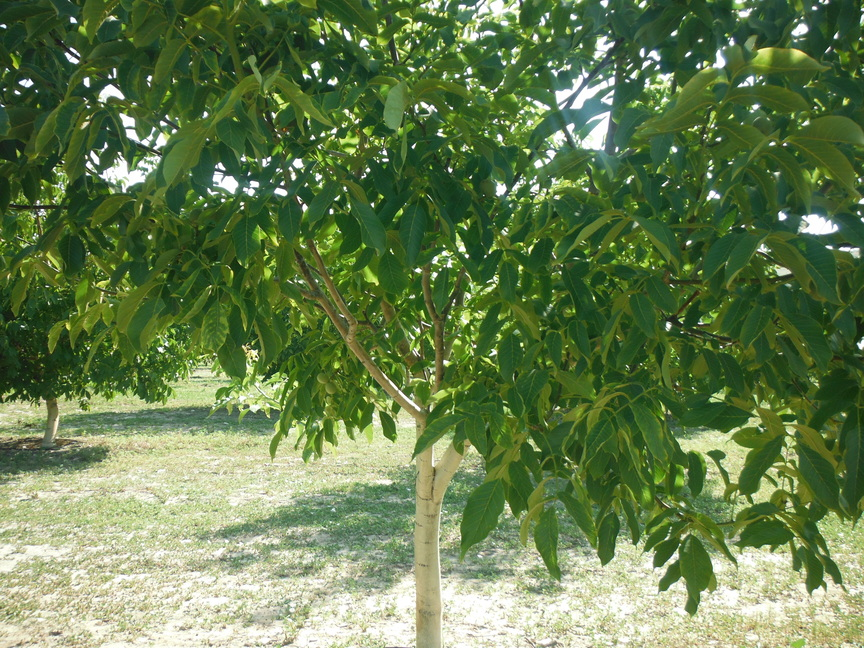walnut: (475, 172, 501, 201), (752, 112, 775, 138), (187, 204, 207, 223), (315, 369, 331, 386), (632, 189, 649, 205), (551, 240, 564, 258), (323, 381, 337, 397), (204, 199, 219, 213), (461, 372, 475, 386), (493, 381, 504, 392)
